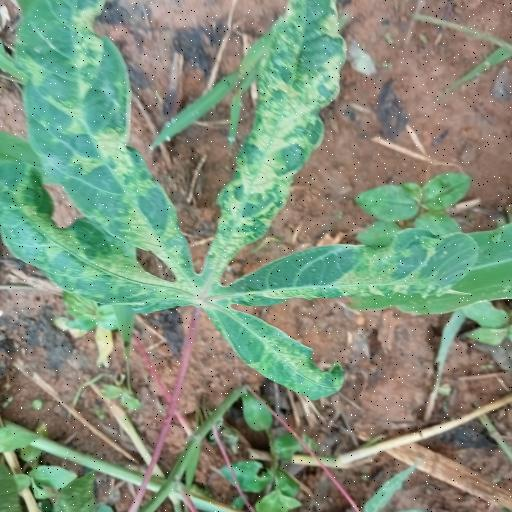Cassava_Mosaic: (13, 8, 512, 378)
